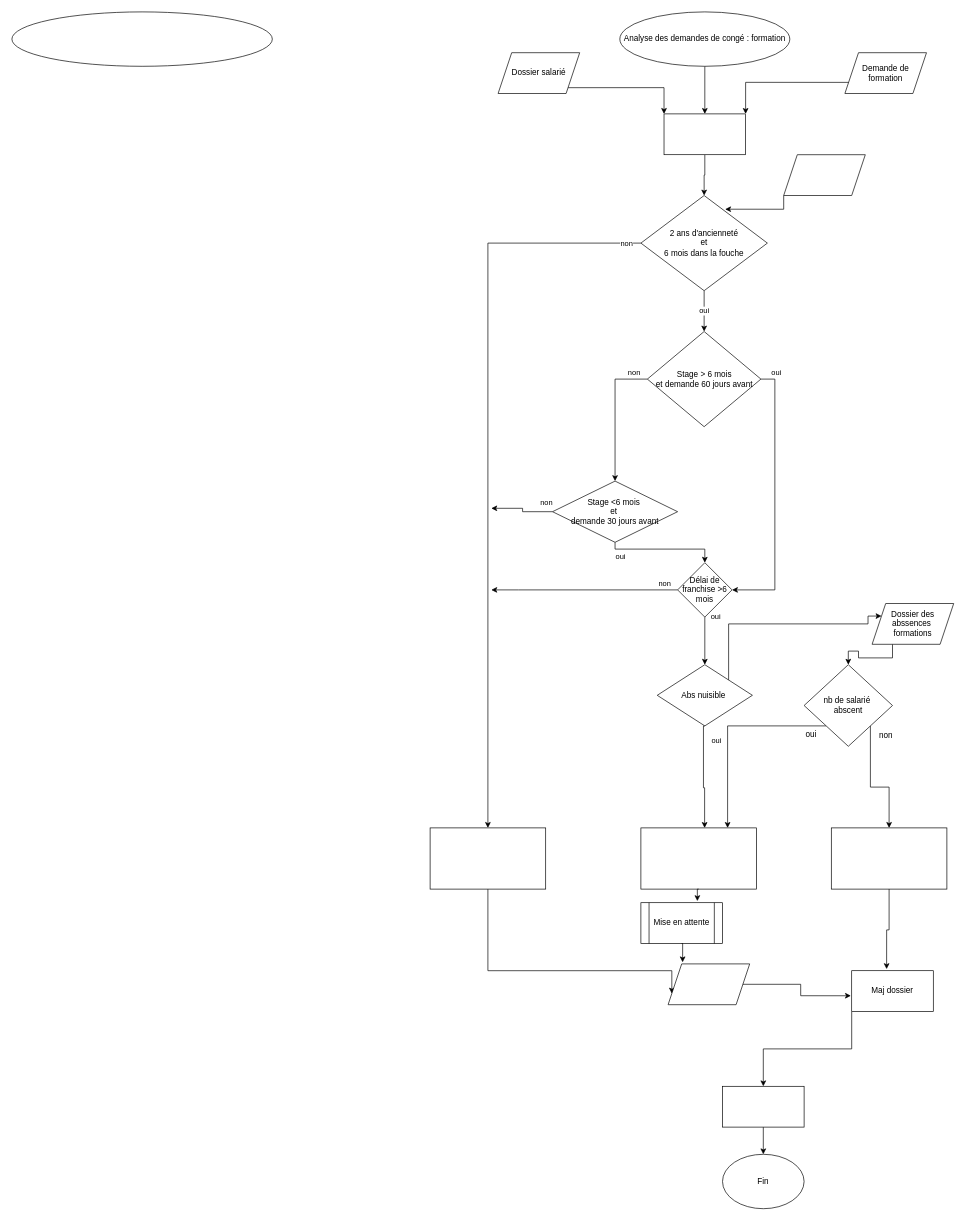
This 966x1221 diagram has some shape labels left out. Each missing label, with the centre of its shape:
catalogue formation: pixel 824 175
Demande Accepté: pixel 889 858
Demande de congé: pixel 704 134
Demande refusée: pixel 487 858
Demande reportée: pixel 698 858
Dossier: pixel 763 1106
Liste: pixel 708 984
